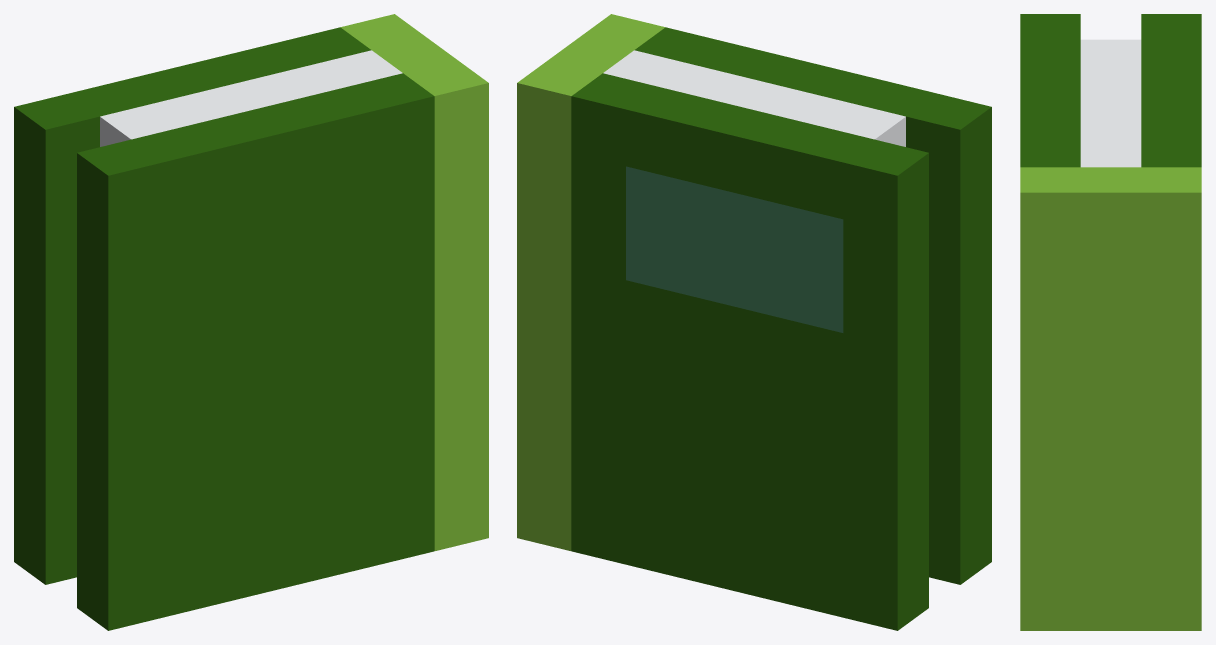
File: book-green.obj
The picture shows the model from 3 angles, left to right: view 1: azimuth 30°, elevation 25°; view 2: azimuth 150°, elevation 25°; view 3: azimuth 270°, elevation 25°; orthographic projection. The views are drawn at different scales.
Bounding box in the file's own units: 0.7 × 0.8 × 0.3.
1 material, 1 textured.
